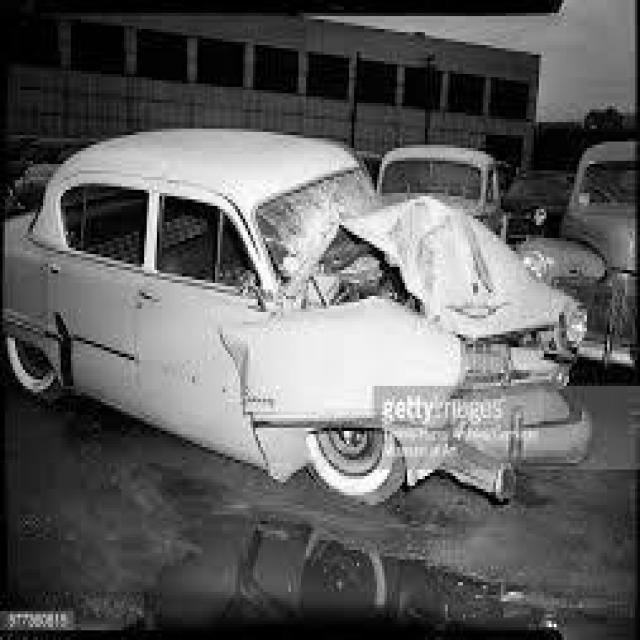damaged: (220, 174, 590, 498)
